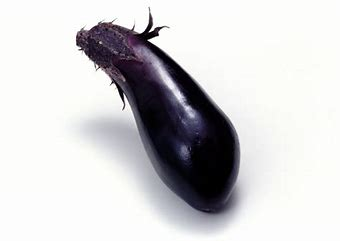fruit_eggplant: (74, 3, 243, 215)
